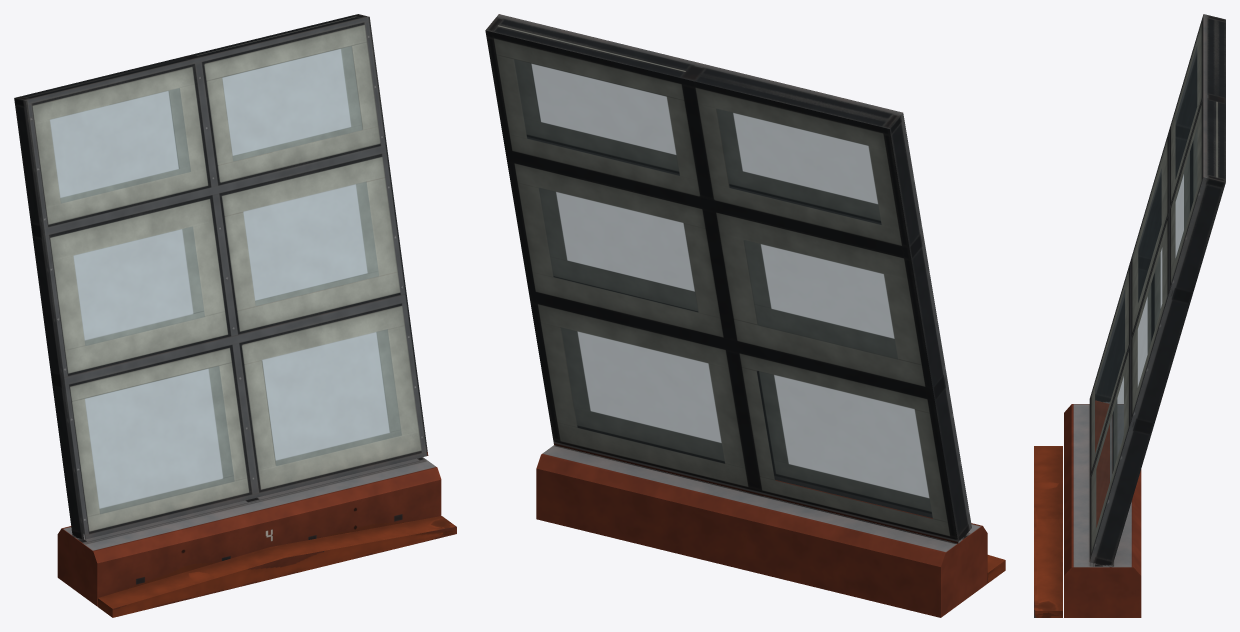
The model's file is dome_wall.glb.
3 views of the same model, side by side, from view 1: azimuth 30°, elevation 25°; view 2: azimuth 150°, elevation 25°; view 3: azimuth 270°, elevation 25° (orthographic). The views are drawn at different scales.
Visible parts, largest first — view 1: dome_wall; view 2: dome_wall; view 3: dome_wall.
Boxes of the visible parts, x1,y1,x2,y2 form: dome_wall: [14, 14, 456, 617]; dome_wall: [485, 14, 1005, 617]; dome_wall: [1034, 14, 1225, 617].
Bounding box in the file's own units: 4 × 5.04 × 1.99.
Materials: 1 (1 with a texture image).
